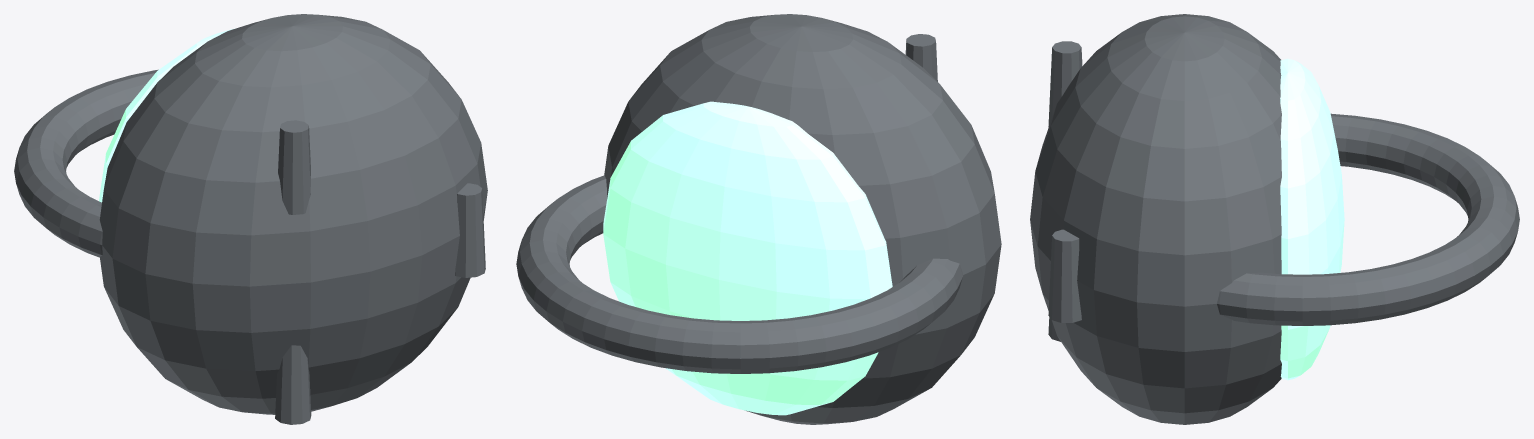
File: cauldron.glb
3 views of the same model, side by side, from view 1: azimuth 30°, elevation 25°; view 2: azimuth 150°, elevation 25°; view 3: azimuth 270°, elevation 25° (orthographic). The views are drawn at different scales.
Parts seen in each view (by area): view 1: body, lip, leg_1, leg_0, leg_2, brew; view 2: brew, body, lip, leg_1; view 3: body, lip, brew, leg_0, leg_1.
Boxes of the visible parts, x1,y1,x2,y2 form: body: [99, 14, 487, 414]; lip: [14, 69, 158, 257]; leg_1: [278, 120, 310, 214]; leg_0: [455, 183, 485, 277]; leg_2: [275, 345, 311, 424]; brew: [99, 28, 234, 202]; brew: [603, 101, 892, 415]; body: [604, 14, 1001, 424]; lip: [516, 175, 963, 373]; leg_1: [905, 34, 937, 81]; body: [1030, 14, 1281, 424]; lip: [1217, 113, 1519, 325]; brew: [1280, 58, 1344, 380]; leg_0: [1048, 229, 1081, 322]; leg_1: [1048, 41, 1082, 127].
Bounding box in the file's own units: 0.59 × 0.56 × 0.665.
